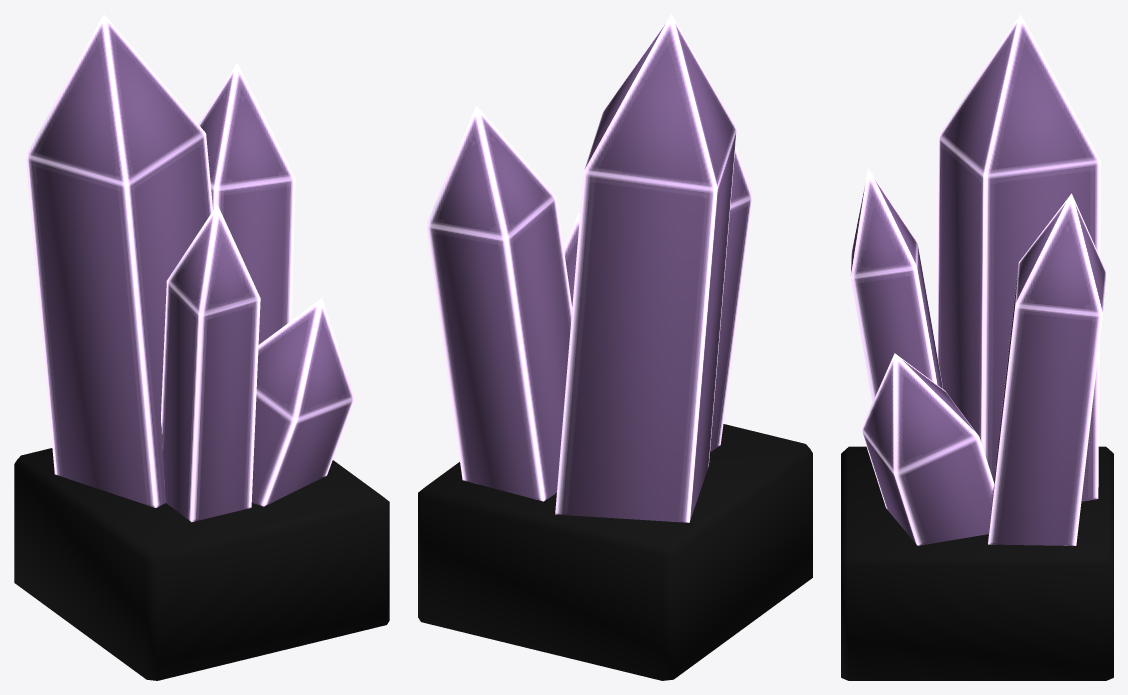
File: Crystal.fbx
3 views of the same model, side by side, from view 1: azimuth 30°, elevation 25°; view 2: azimuth 150°, elevation 25°; view 3: azimuth 270°, elevation 25° (orthographic). The views are drawn at different scales.
Parts seen in each view (by area): view 1: Crystal; view 2: Crystal; view 3: Crystal.
Part boxes in pixels (left/top/right/bottom): Crystal: left=14, top=14, right=389, bottom=680; Crystal: left=418, top=14, right=812, bottom=680; Crystal: left=841, top=14, right=1113, bottom=680.
Bounding box in the file's own units: 84.34 × 184 × 79.47.
